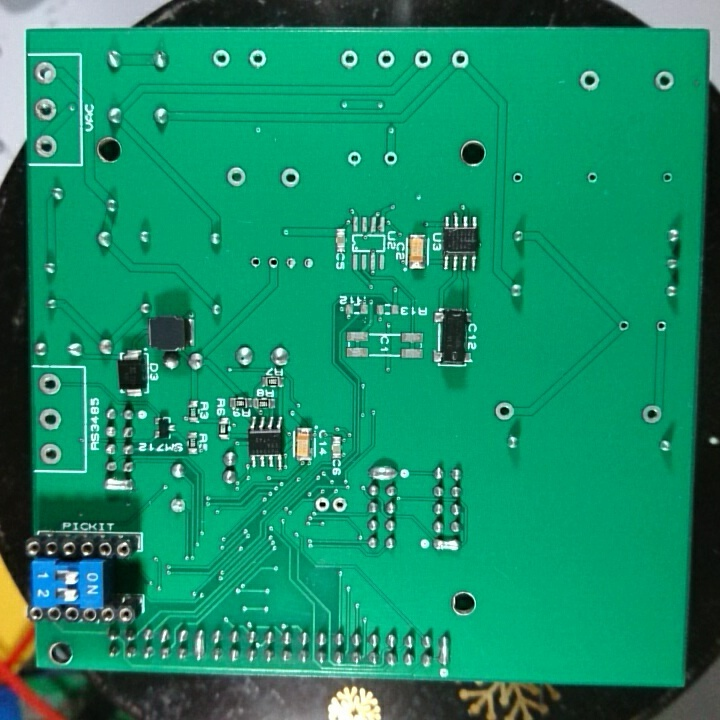F: (30, 58, 59, 89), (578, 65, 605, 97), (36, 370, 64, 400), (275, 164, 304, 191), (221, 163, 249, 190), (32, 133, 61, 159), (651, 66, 677, 95), (36, 406, 64, 432), (492, 398, 518, 425), (38, 441, 64, 468), (32, 96, 58, 123), (245, 46, 271, 72), (338, 47, 364, 73), (639, 400, 664, 426), (448, 47, 473, 72), (209, 46, 233, 71), (411, 46, 434, 72), (374, 47, 397, 71), (166, 492, 188, 517), (343, 149, 367, 169), (381, 147, 402, 169), (313, 493, 331, 517), (331, 493, 348, 516), (300, 252, 316, 275), (615, 316, 632, 336), (284, 253, 299, 274), (582, 168, 599, 186), (509, 169, 526, 187), (659, 169, 675, 187), (248, 253, 264, 270), (653, 318, 668, 336), (266, 254, 281, 272)
P: (436, 630, 454, 666), (190, 626, 207, 663), (430, 535, 461, 555), (368, 463, 399, 483), (103, 476, 136, 494)
